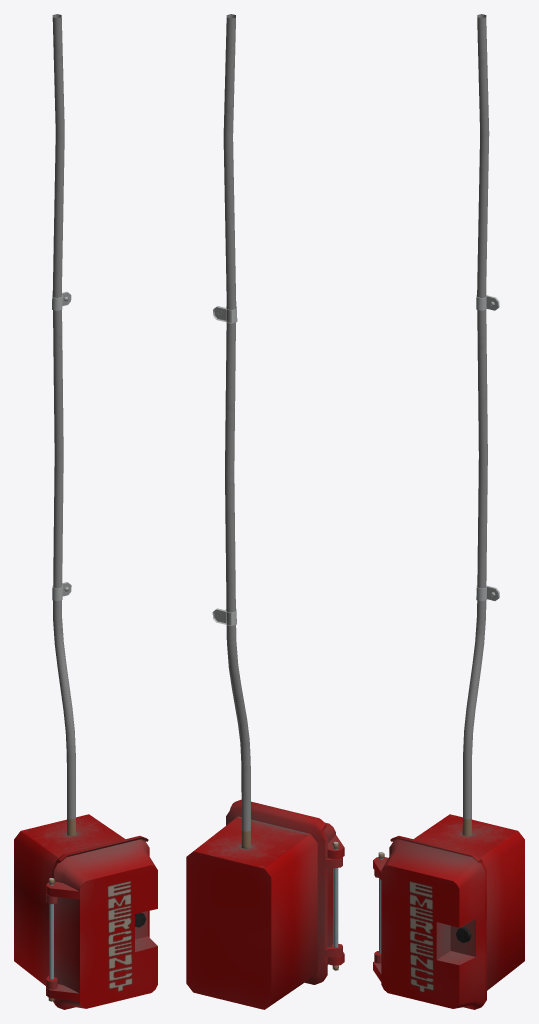
The model's file is FBX_ButtonEmergency.fbx.
3 views of the same model, side by side, from view 1: azimuth 30°, elevation 25°; view 2: azimuth 150°, elevation 25°; view 3: azimuth 330°, elevation 25° (orthographic). The views are drawn at different scales.
Visible parts, largest first — view 1: SM_ButtonEmergency; view 2: SM_ButtonEmergency; view 3: SM_ButtonEmergency.
Boxes of the visible parts, box(x1,y1,x2,y2) form: SM_ButtonEmergency: box(14, 14, 157, 1009); SM_ButtonEmergency: box(186, 14, 344, 1009); SM_ButtonEmergency: box(373, 14, 524, 1009).
Bounding box in the file's own units: 0.2343 × 2.01 × 0.2447.
